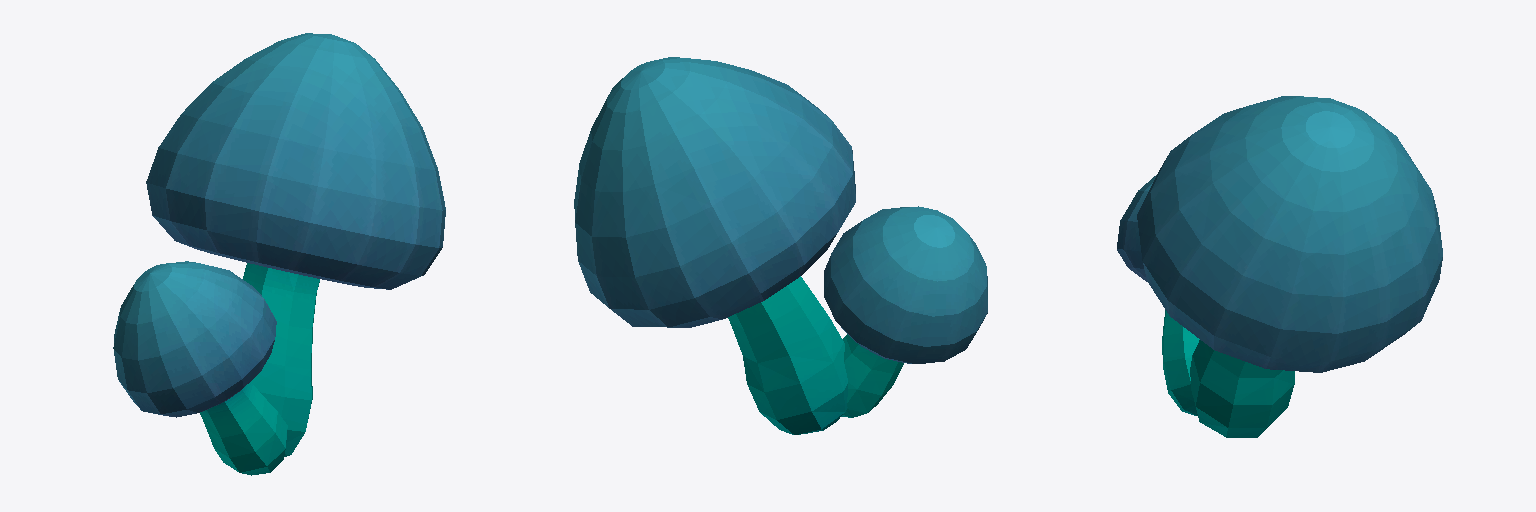
3 renders of one model, left to right at view 1: azimuth 30°, elevation 25°; view 2: azimuth 150°, elevation 25°; view 3: azimuth 270°, elevation 25°, orthographic.
Parts seen in each view (by area): view 1: cap_a_low__MI_Mushroom; view 2: cap_a_low__MI_Mushroom; view 3: cap_a_low__MI_Mushroom.
Boxes of the visible parts, <box> form: cap_a_low__MI_Mushroom: <box>113,33,445,475</box>; cap_a_low__MI_Mushroom: <box>574,57,987,434</box>; cap_a_low__MI_Mushroom: <box>1117,96,1442,437</box>.
Size of the model in its own units: 1.06 by 1.09 by 0.8728.
1 materials, 1 textured.